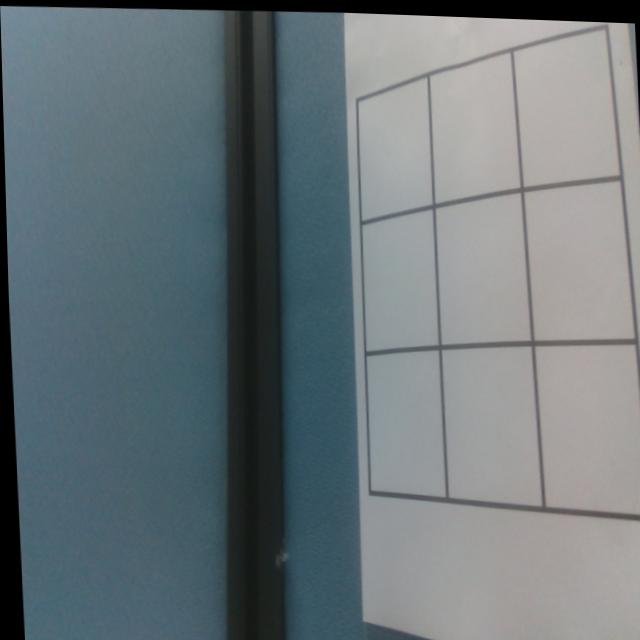null: (532, 335, 640, 513), (523, 174, 634, 343), (513, 17, 617, 188), (437, 341, 538, 507), (432, 185, 529, 346), (425, 47, 521, 208), (361, 342, 442, 501), (352, 68, 433, 225), (357, 201, 436, 355)
table: (344, 11, 640, 515)
